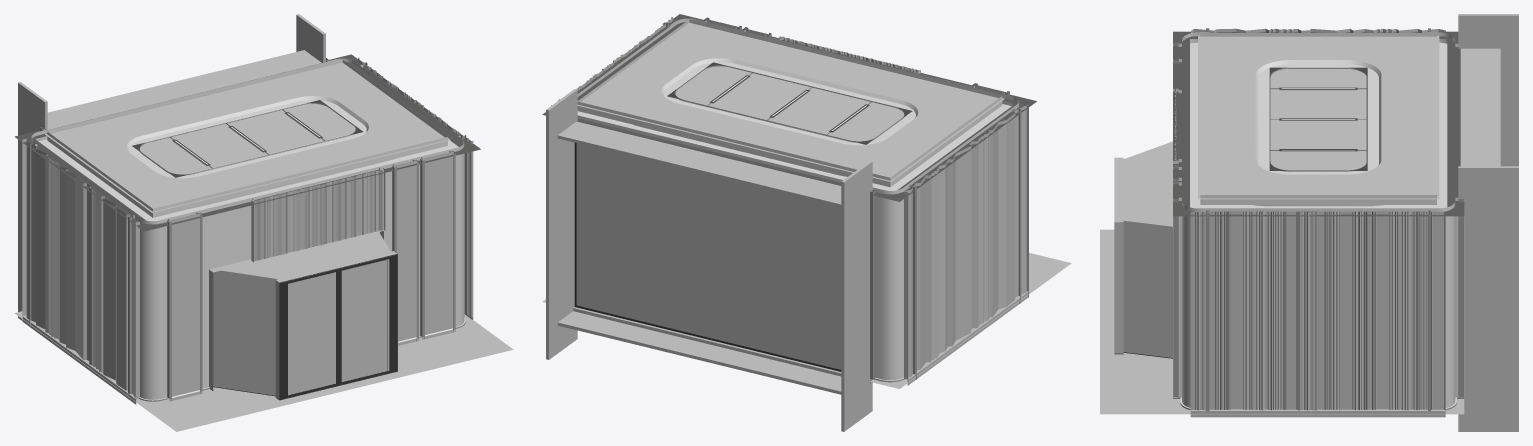
File: Hana_M_S_001.fbx
3 views of the same model, side by side, from view 1: azimuth 30°, elevation 25°; view 2: azimuth 150°, elevation 25°; view 3: azimuth 270°, elevation 25° (orthographic). The views are drawn at different scales.
Parts seen in each view (by area): view 1: Hana_M_S_001; view 2: Hana_M_S_001, Hana_M_S_001_W_04_glass; view 3: Hana_M_S_001.
Part boxes in pixels (x1,y1,x2,y2): Hana_M_S_001: (14, 14, 513, 431); Hana_M_S_001: (542, 14, 1071, 431); Hana_M_S_001_W_04_glass: (576, 143, 841, 369); Hana_M_S_001: (1100, 14, 1518, 431).
Bounding box in the file's own units: 12 × 8 × 11.5.
